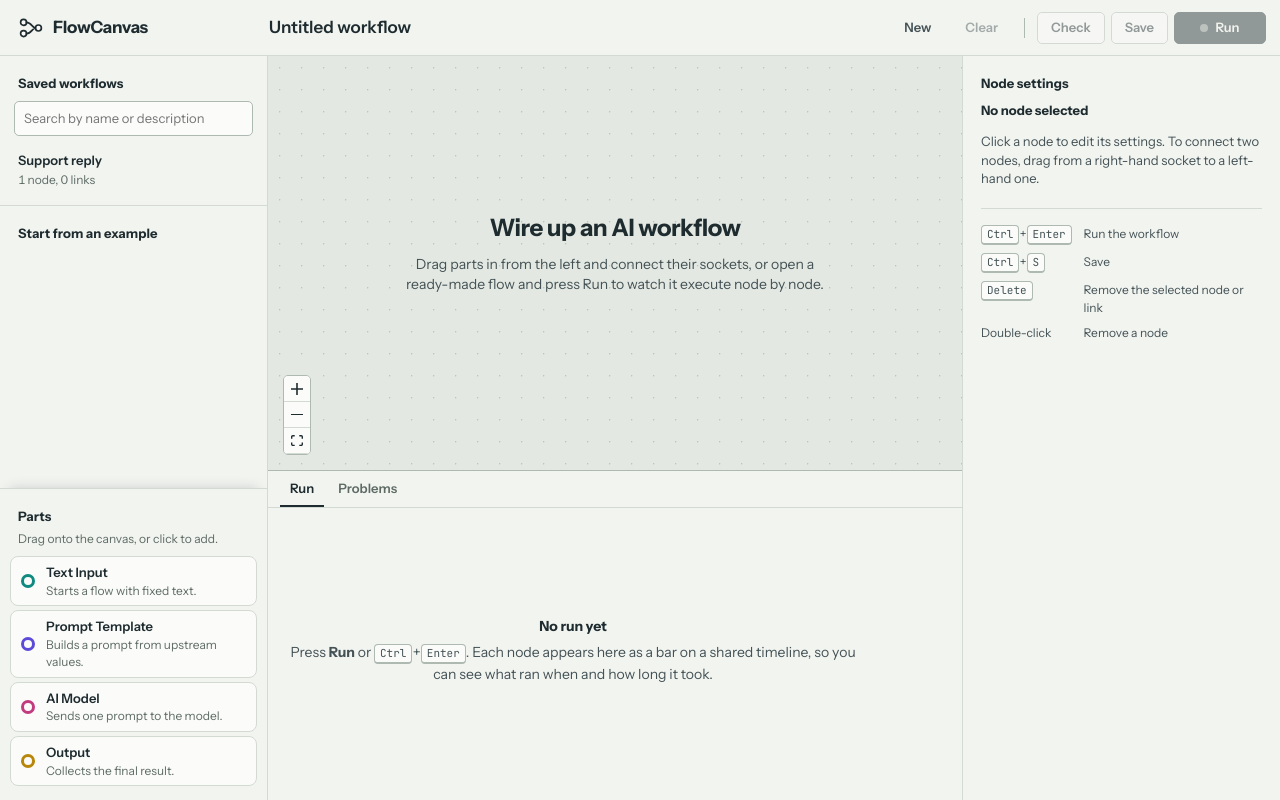
Scenario: App › loads a saved workflow into the canvas
Click the button with test id "workflow-open-w1" at (118, 169), box left=8, top=144, right=227, bottom=195
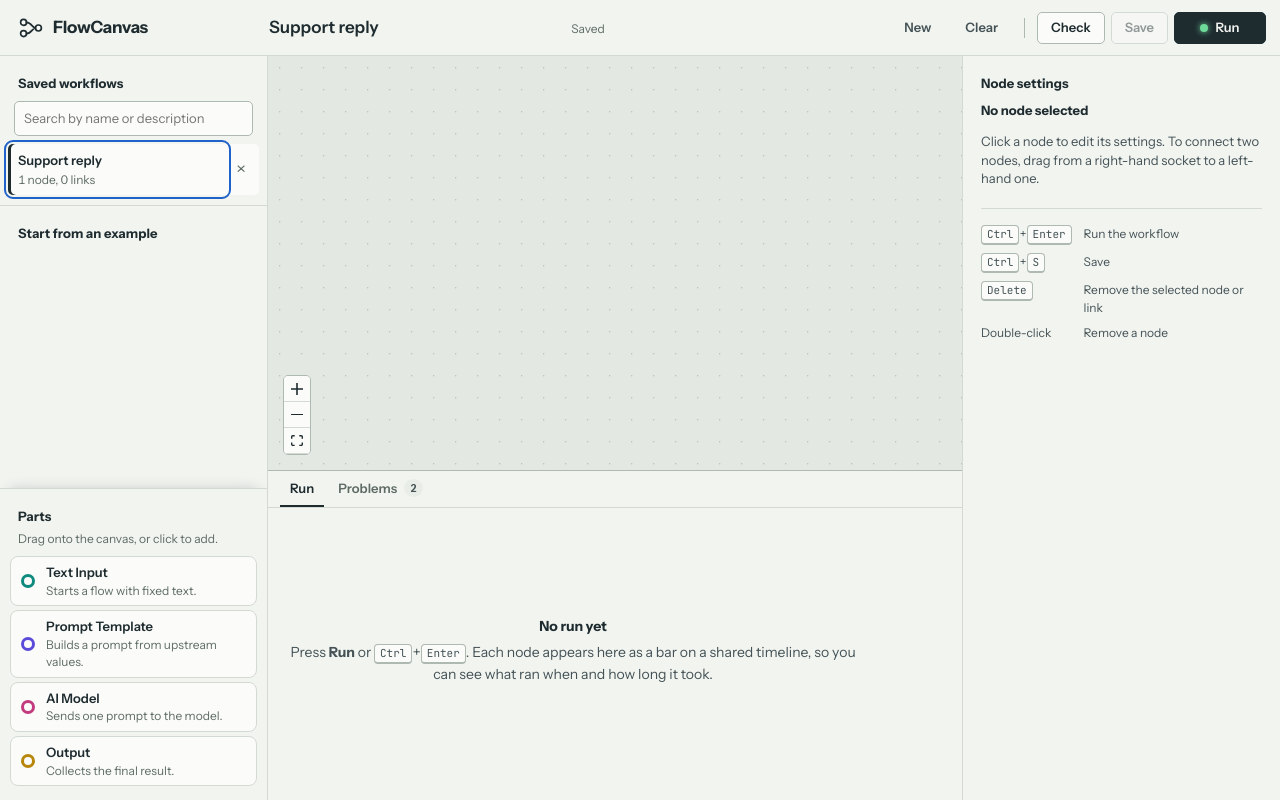
expect the field with test id "workflow-name" holds "Support reply": met, box left=260, top=10, right=559, bottom=45
